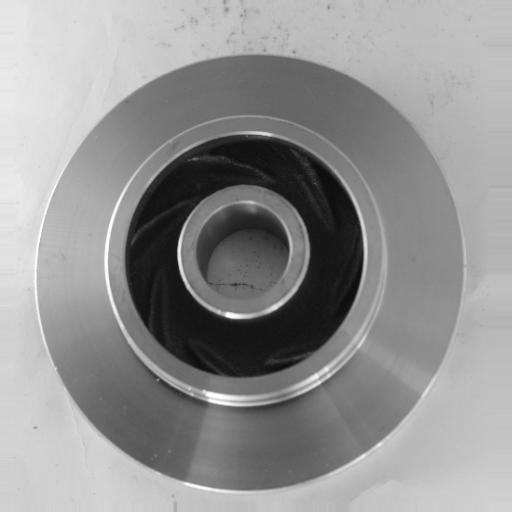polished_casting: (35, 54, 468, 493)
